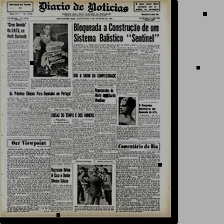news_paper: (0, 0, 174, 218)
